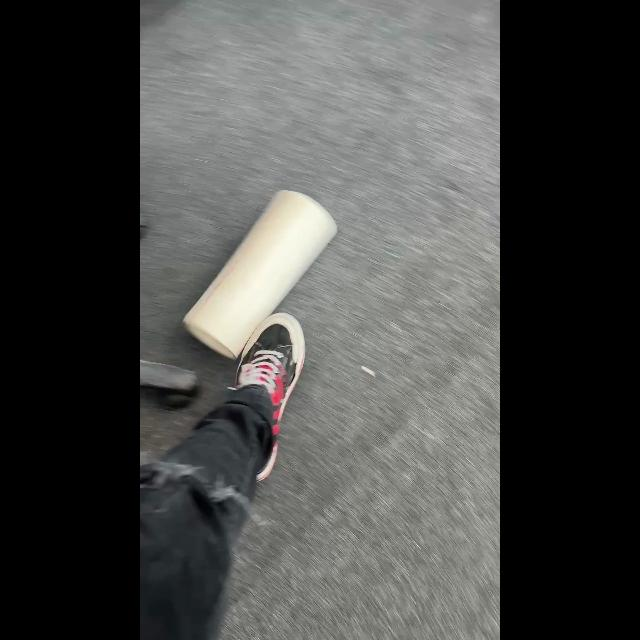CORAL: (182, 188, 338, 360)
